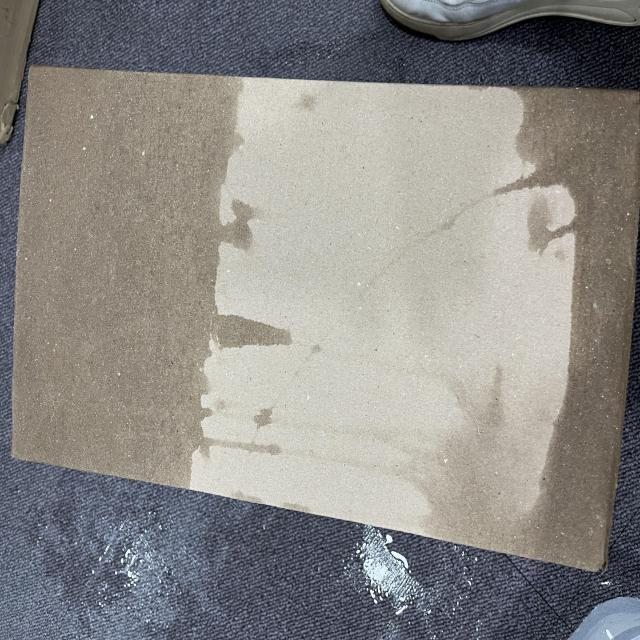wet: (56, 16, 418, 640)
